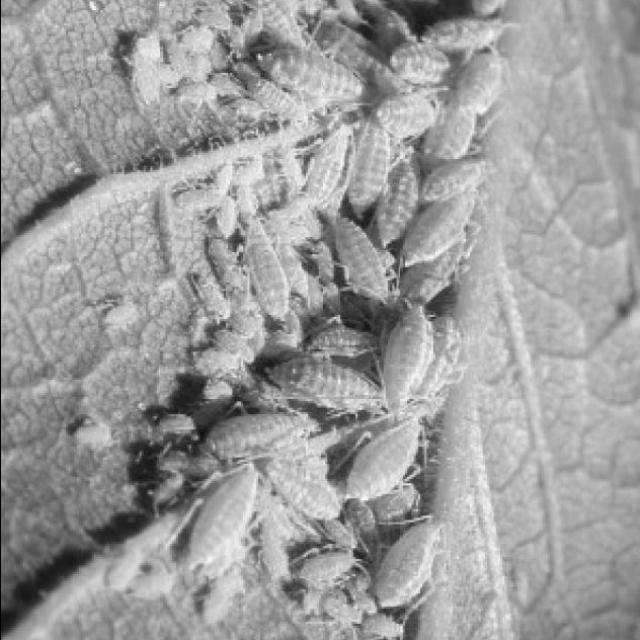Aphids: (63, 0, 509, 636)
